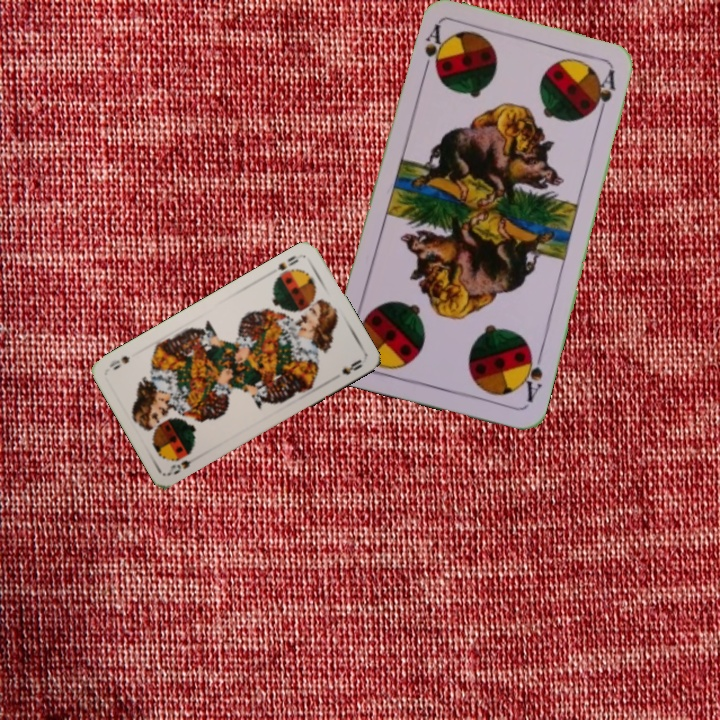SA: (516, 346, 545, 405), (418, 20, 444, 79)
SO: (274, 251, 301, 273), (165, 456, 193, 477)
